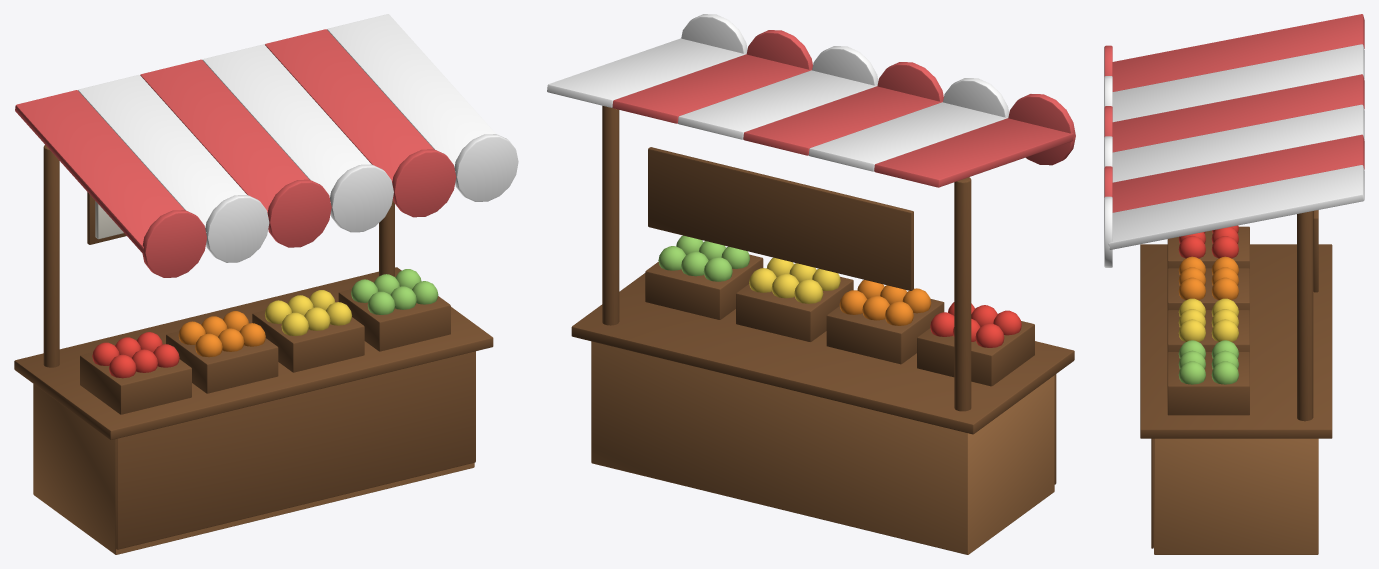
The model's file is market.glb.
The picture shows the model from 3 angles, left to right: view 1: azimuth 30°, elevation 25°; view 2: azimuth 150°, elevation 25°; view 3: azimuth 270°, elevation 25°; orthographic projection. The views are drawn at different scales.
Visible parts, largest first — view 1: MarketMesh; view 2: MarketMesh; view 3: MarketMesh.
Boxes of the visible parts, bbox=[...] form: MarketMesh: bbox=[14, 14, 518, 554]; MarketMesh: bbox=[547, 14, 1075, 554]; MarketMesh: bbox=[1104, 14, 1364, 554].
Size of the model in its own units: 3.26 by 2.97 by 1.89.
